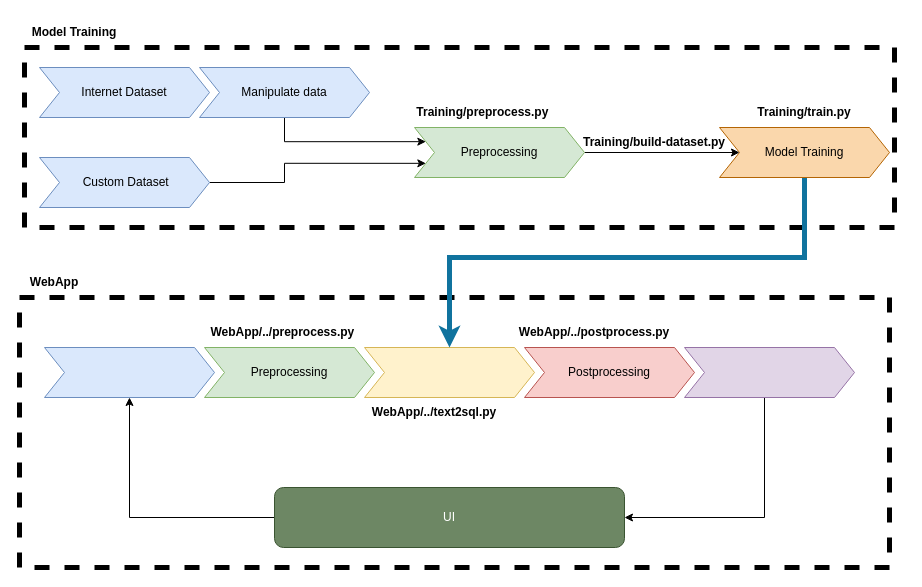
Image size: 922x587. Some labels were removed from this diagram. Each missing label, with the centre of its shape:
"Question" belongs at point 129,372.
"SQL" belongs at point 769,372.
"Text2SQL" belongs at point 449,372.
